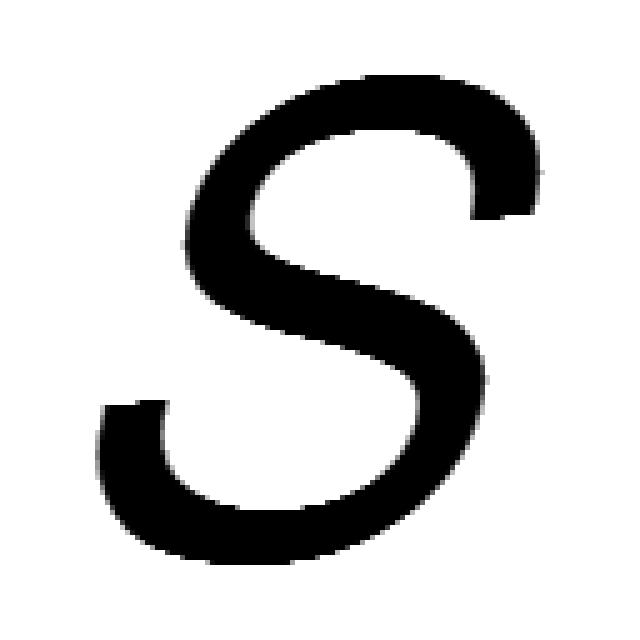S: (85, 60, 545, 570)
